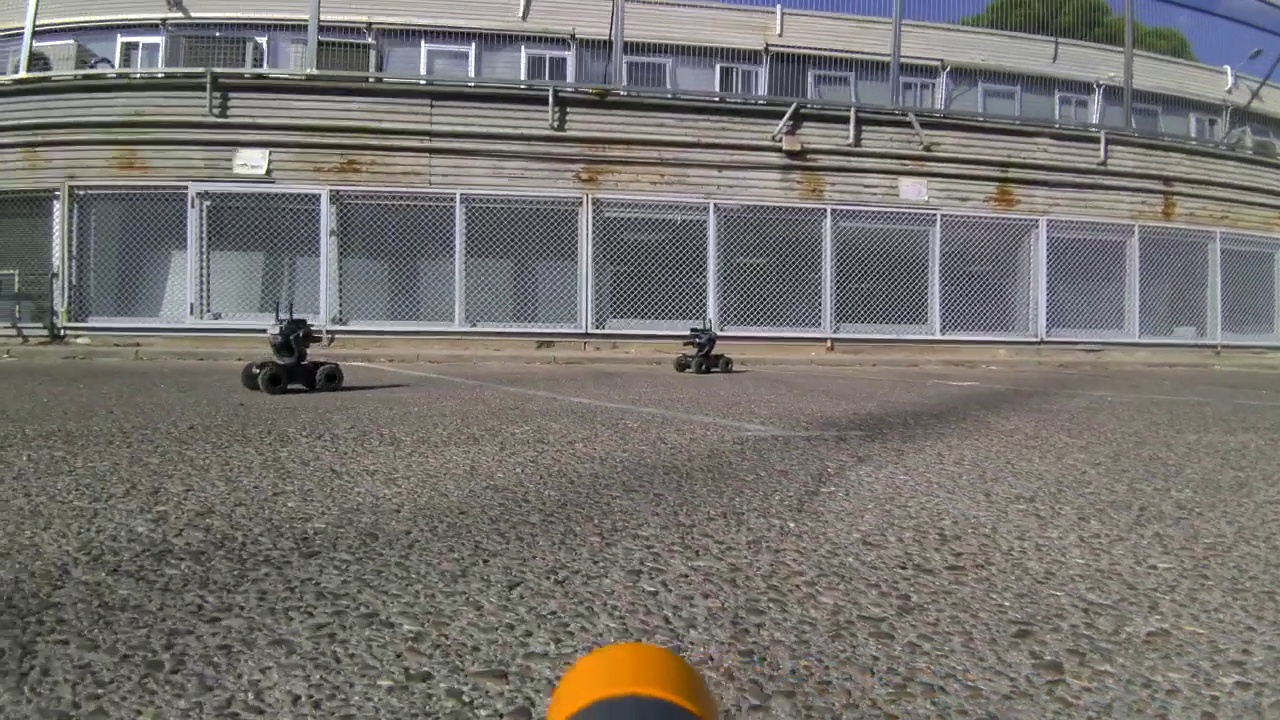robot: (245, 306, 339, 403), (657, 317, 741, 376)
